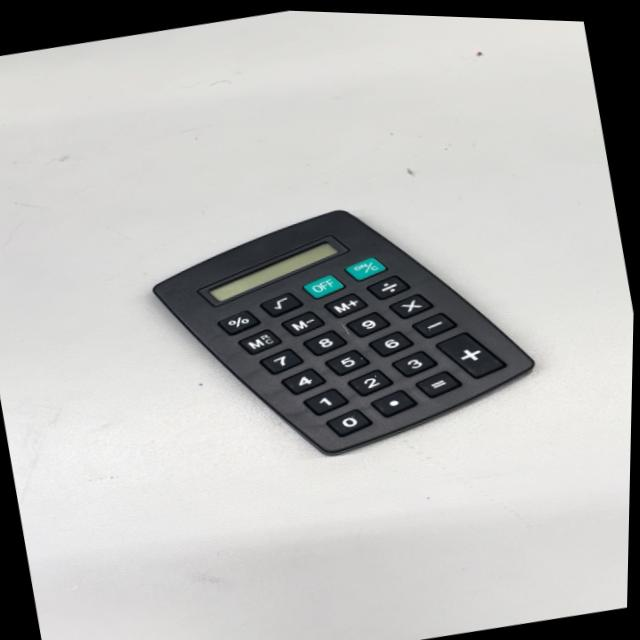calculator: (147, 171, 546, 488)
